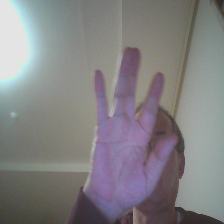hand: (84, 41, 182, 215)
